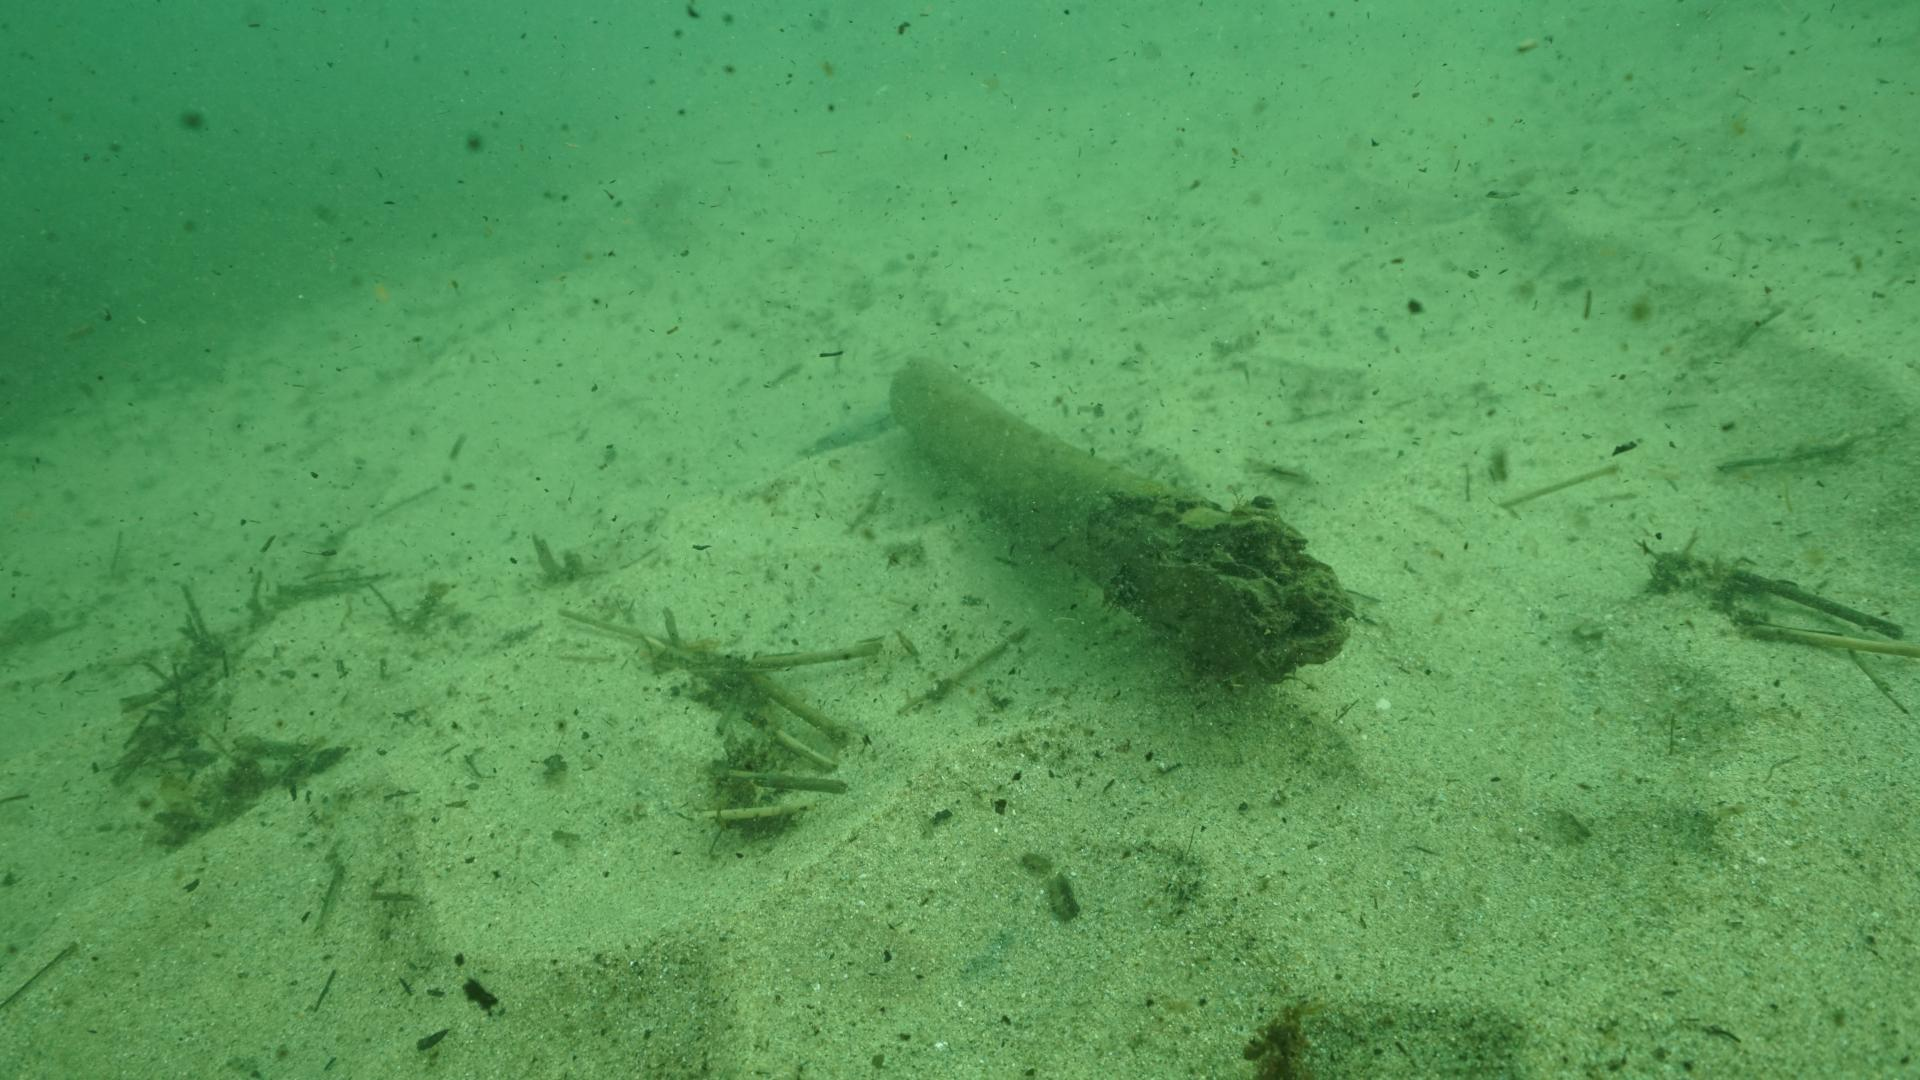wood: (890, 347, 1345, 682)
